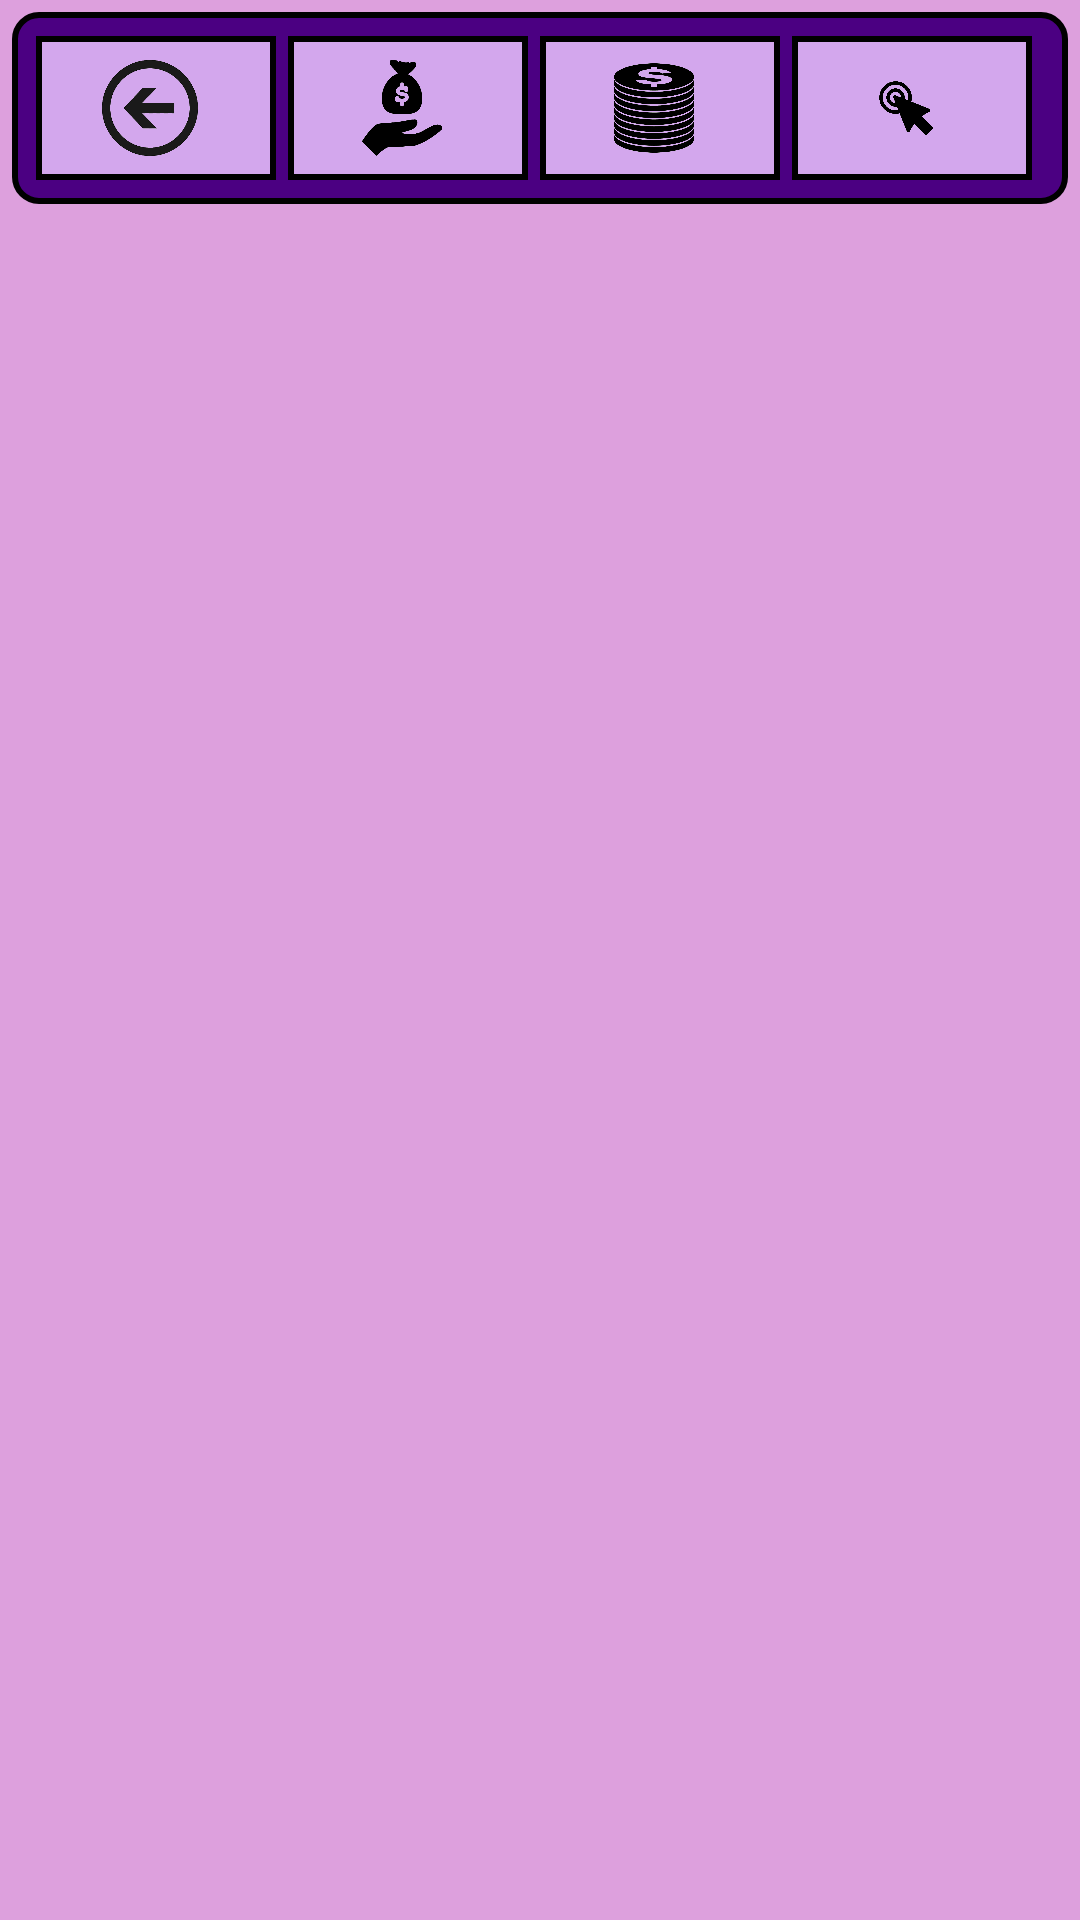

Icon bounding boxes for this 1080 × 1920 phone screenshot, format (x1, y1, x2, y2):
atras: (102, 60, 198, 156)
value: (362, 60, 442, 156)
